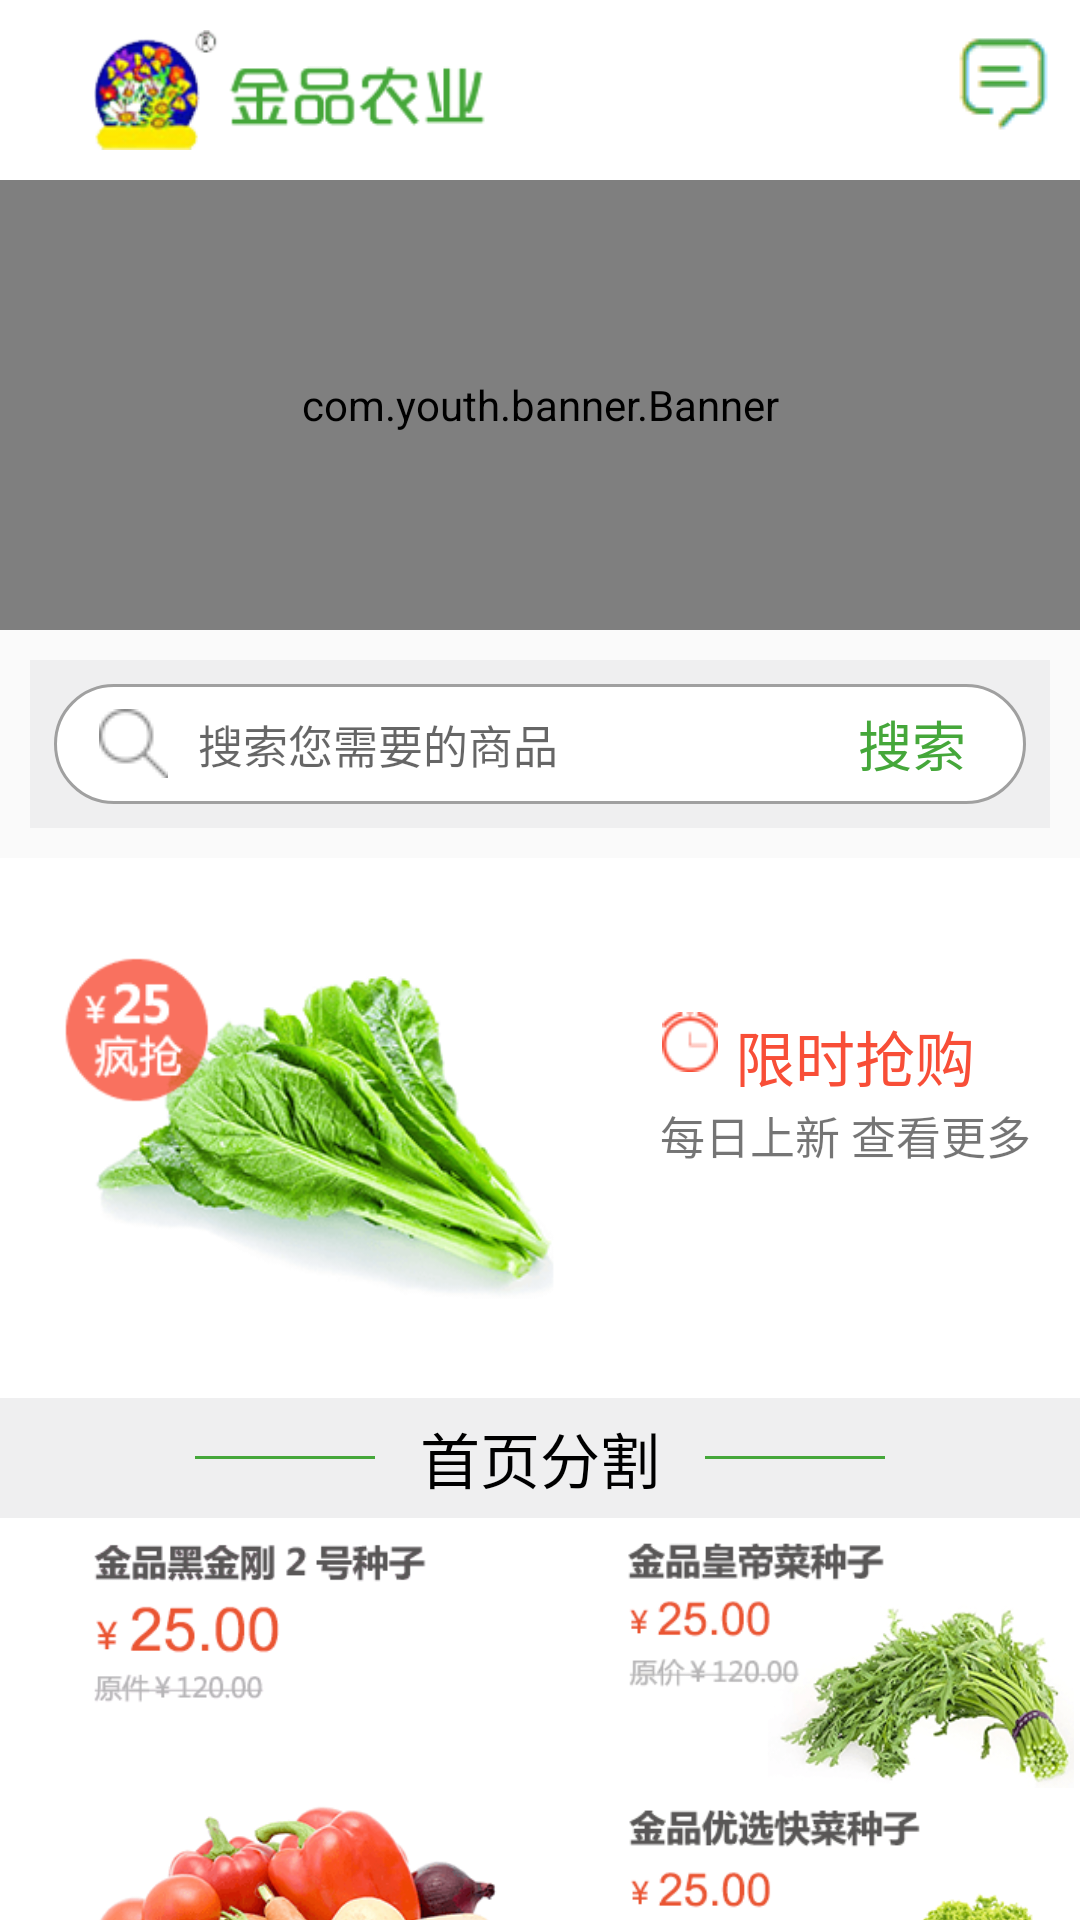

Screen size 1080×1920. Icon name, then its center in pixels as [x,y]:
shou ye msg: [1003,84]
xian shi qiang gou: [690,1042]
